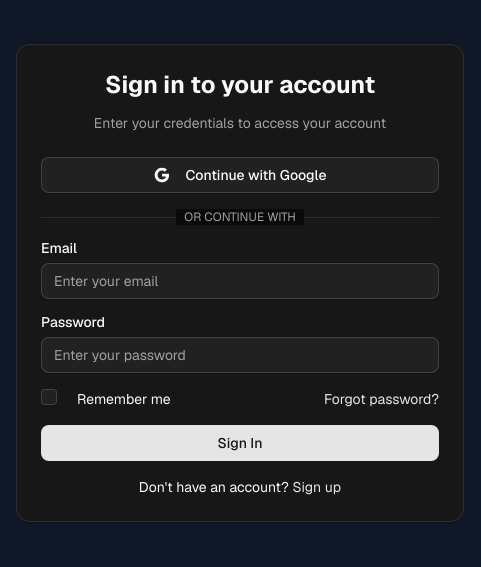
LoginPage › validates form fields
This screenshot has width=481, height=567.
// Try to submit empty form
Click the button "Sign In": click(240, 443) [41,425,439,461]
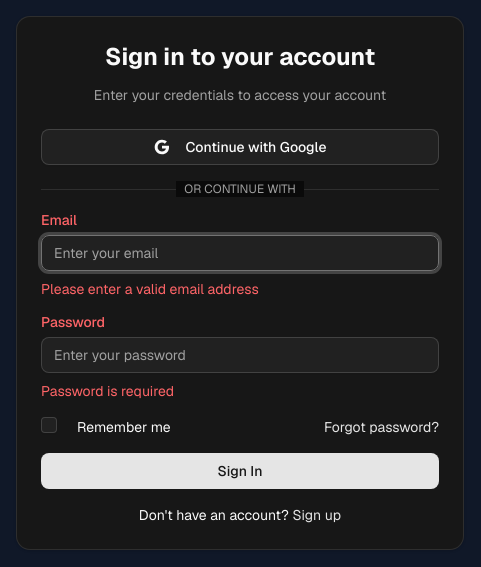
Check: the text "Please enter a valid email address" is shown, box [41,280,259,298]
Check: the text "Password is required" is shown, box [41,382,174,400]
